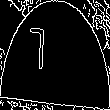L_S: (46, 29, 64, 81)
